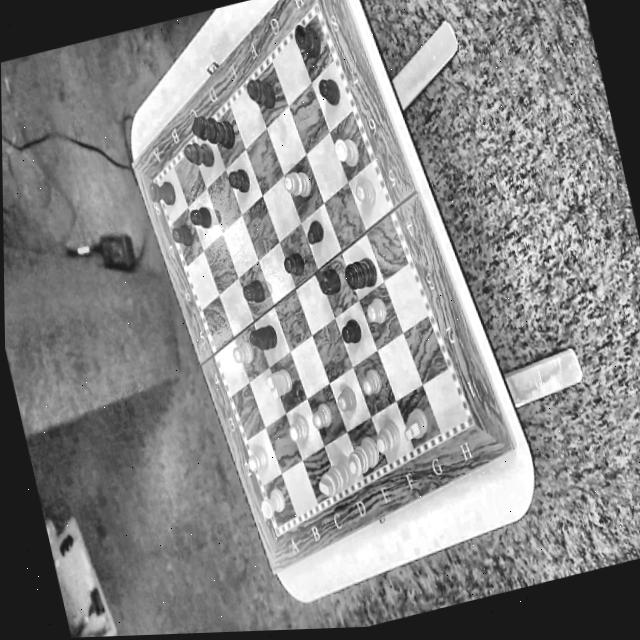chessboard: (157, 15, 466, 529)
